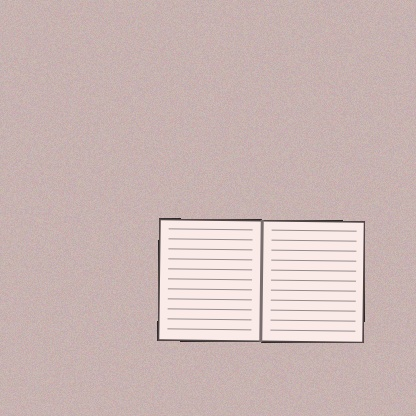book: (157, 218, 365, 343)
